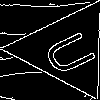U: (41, 24, 100, 79)
